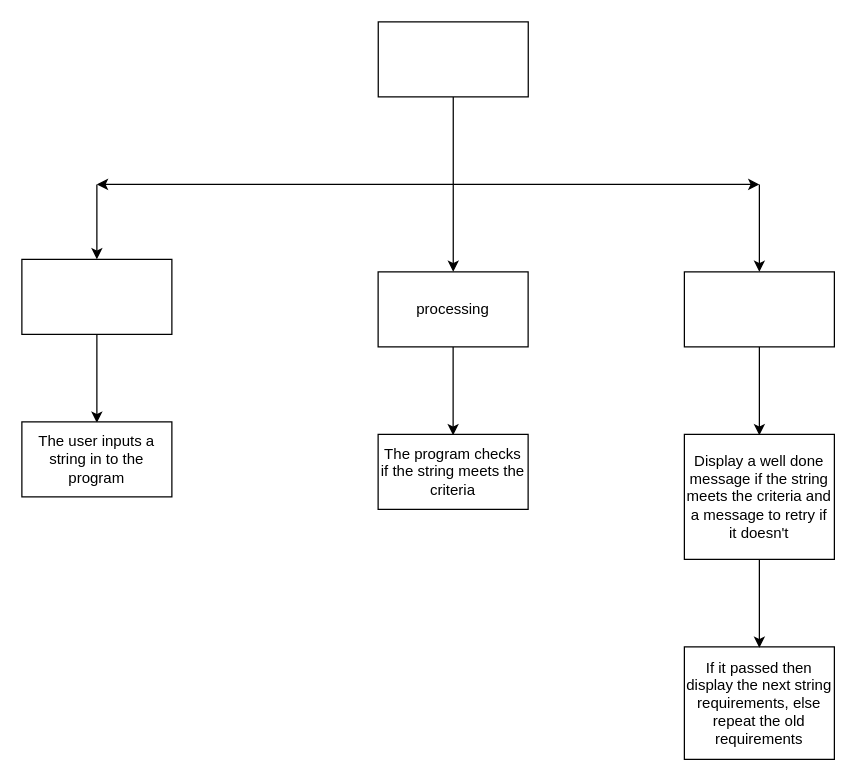
Some shapes in this 856 by 781 pixel diagram are drawn without their labels. Each missing label, with the centre of its shape:
"Get the user to enter strings that follows certain criteria" goes at [452,59].
"Input" goes at [96,296].
"Output" goes at [758,309].
